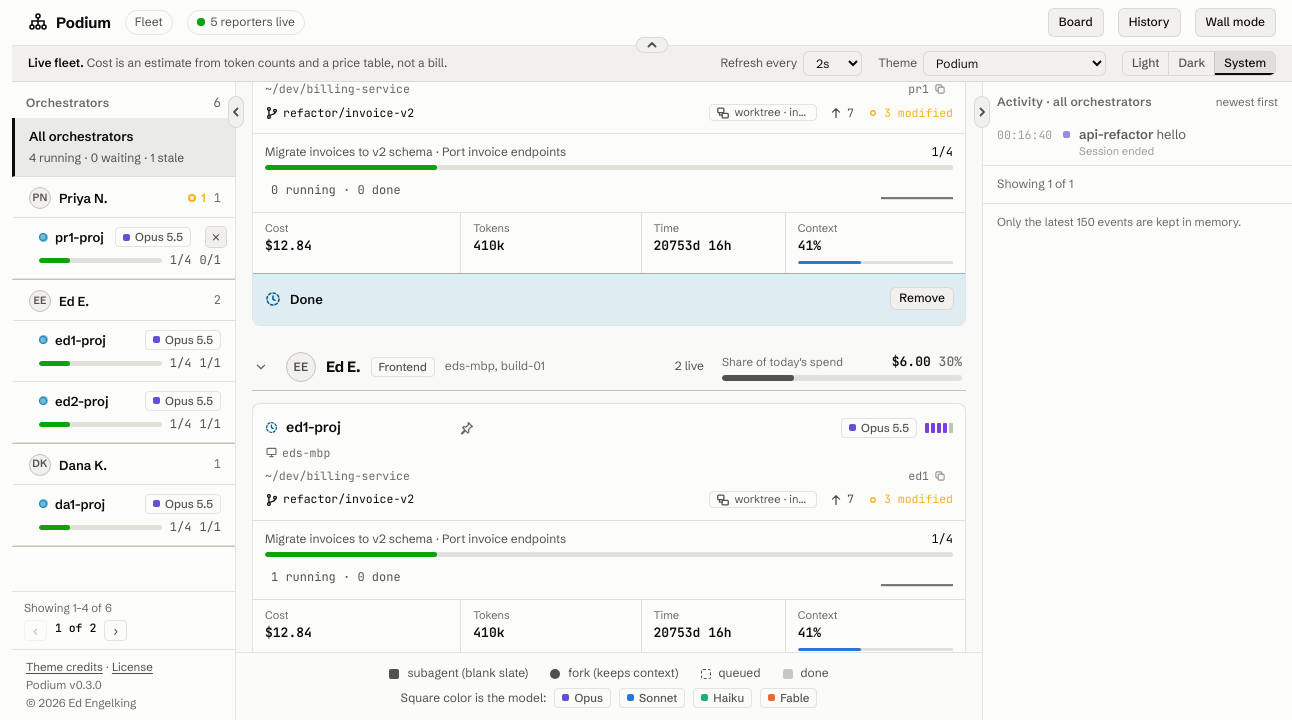
Test: people view › collapses a band to its header and remembers it
(page scrolled)
Click the button that starts with "Ed E." at (343, 367), box [252, 344, 966, 391]
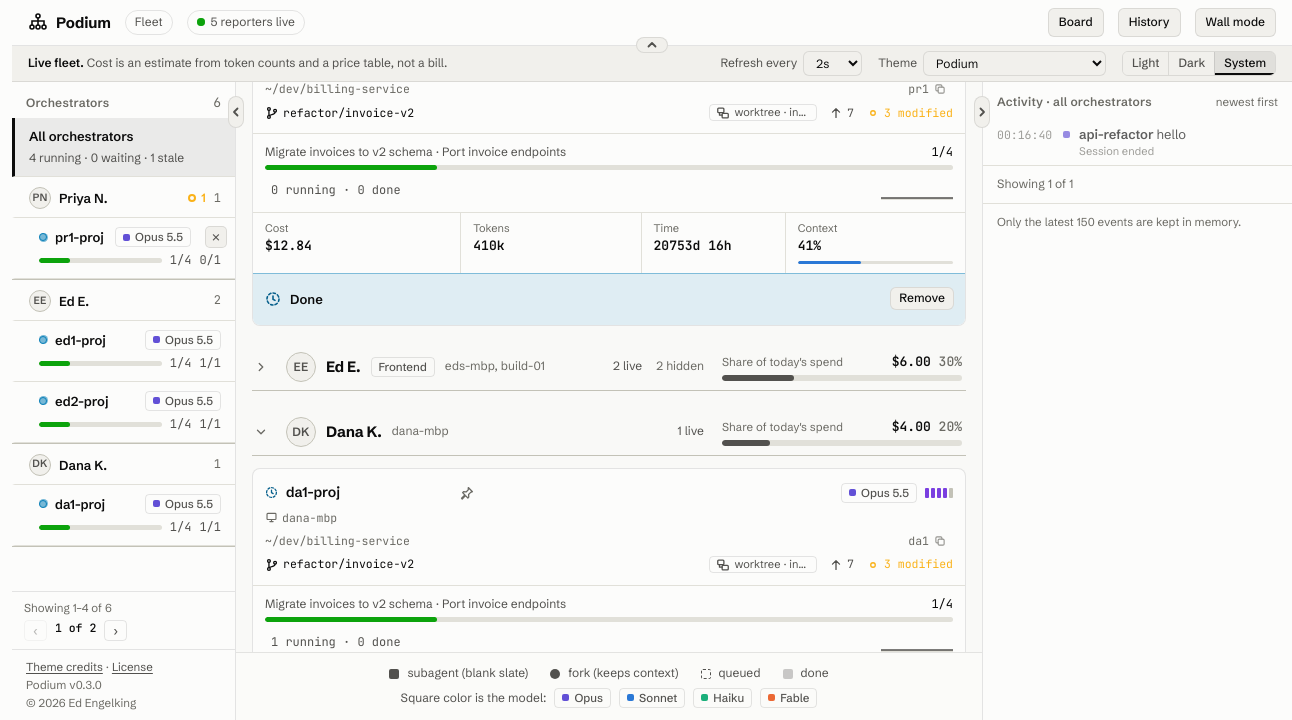
Expected: the button that starts with "Ed E." is collapsed, [252, 344, 966, 391]
Expected: the text "2 hidden" is shown, [656, 358, 704, 375]
